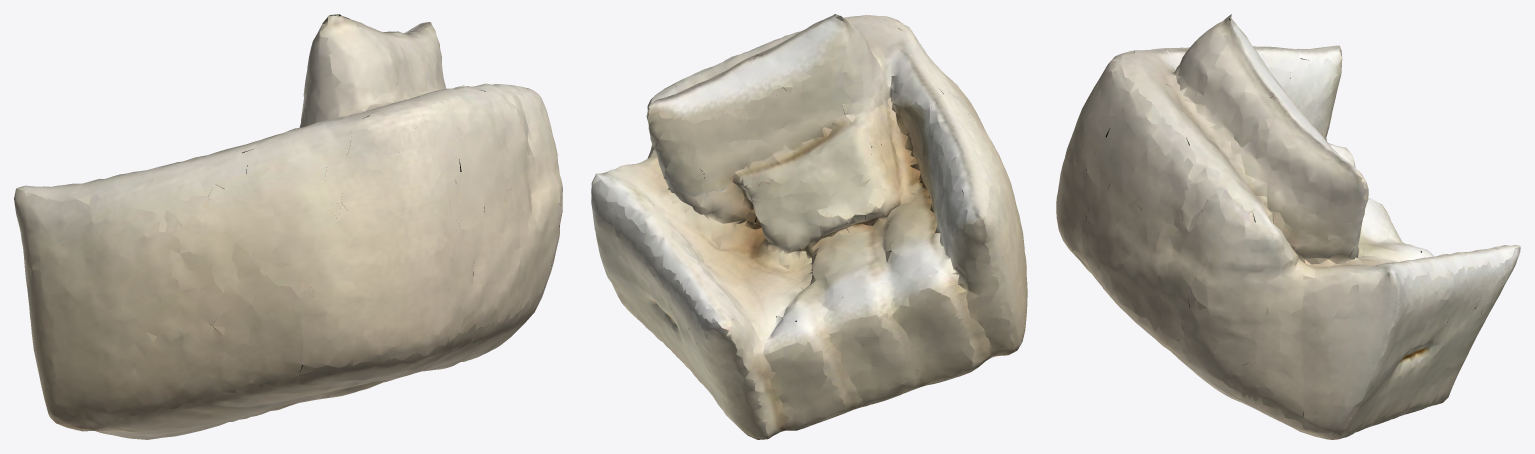
3 views of the same model, side by side, from view 1: azimuth 30°, elevation 25°; view 2: azimuth 150°, elevation 25°; view 3: azimuth 270°, elevation 25° (orthographic). The views are drawn at different scales.
Parts seen in each view (by area): view 1: world; view 2: world; view 3: world.
Boxes of the visible parts, left/top/right/bottom form: world: left=14, top=14, right=562, bottom=439; world: left=591, top=14, right=1027, bottom=439; world: left=1056, top=14, right=1520, bottom=439.
Bounding box in the file's own units: 0.8802 × 0.7822 × 0.8403.
Materials: 1 (1 with a texture image).
